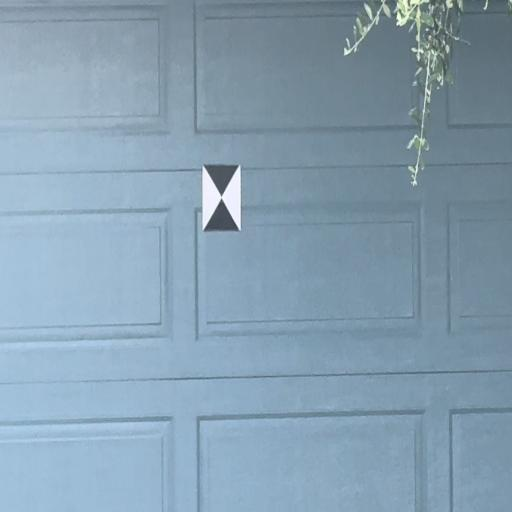target: (202, 164, 242, 231)
